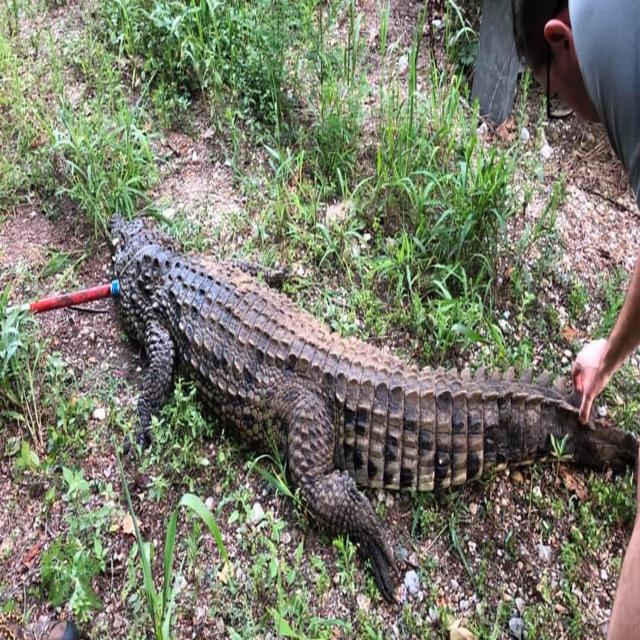crocodile: (109, 213, 640, 595)
